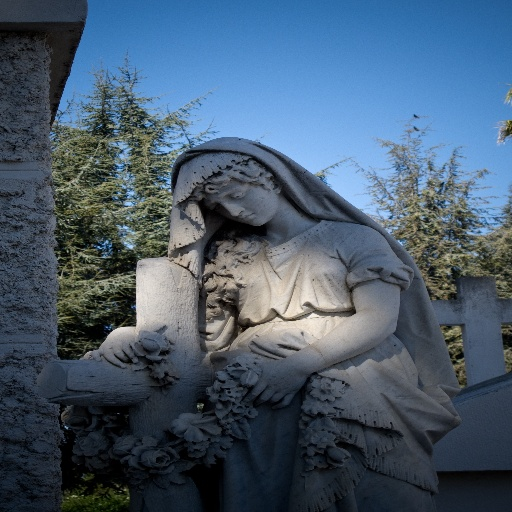hand: (240, 358, 310, 410), (88, 330, 151, 372)
